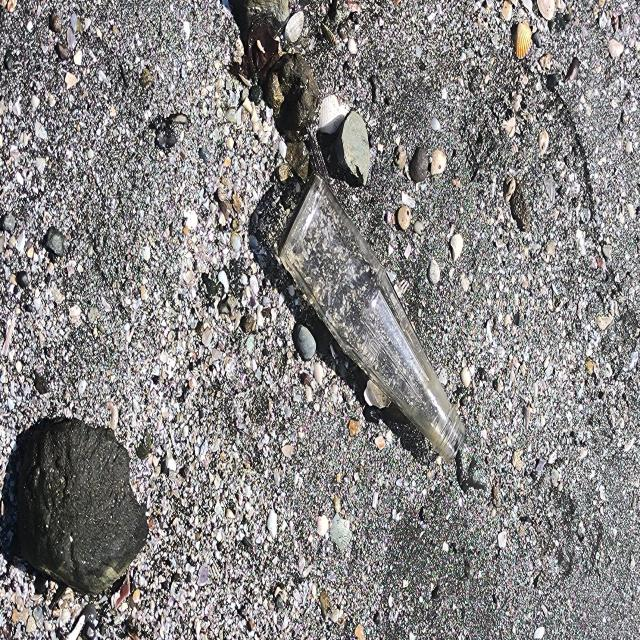glass_waste: (278, 170, 468, 467)
